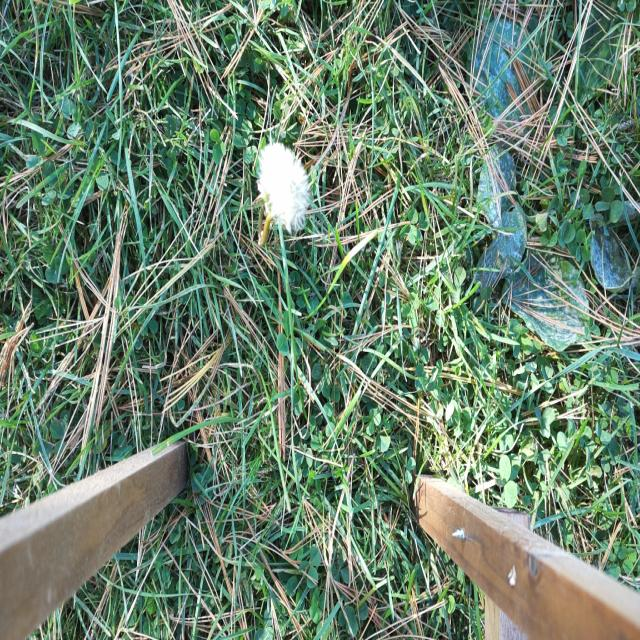base: (251, 194, 271, 227)
flower: (259, 142, 310, 231)
